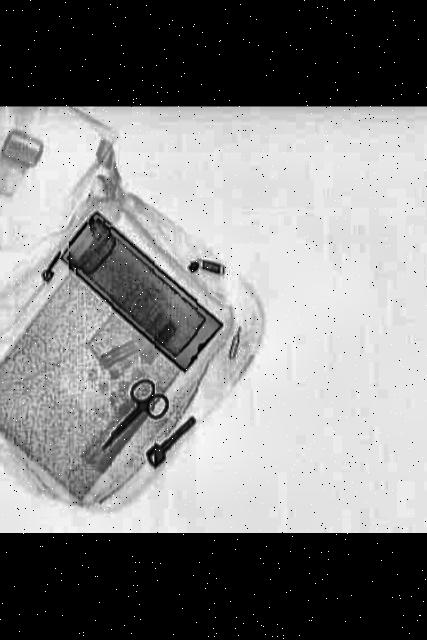Scissors: (83, 374, 184, 458)
